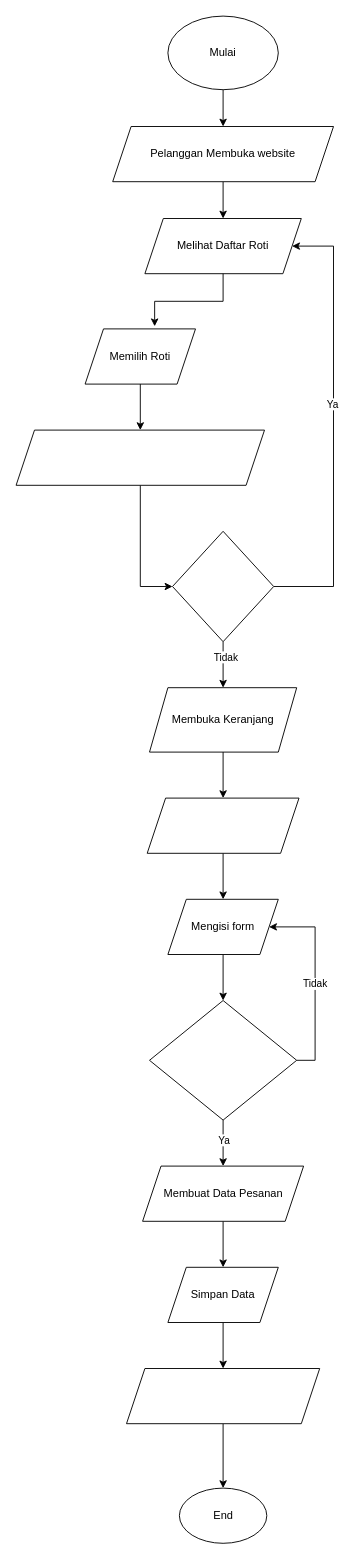
Some shapes in this 357 by 1559 pixel diagram are drawn without their labels. The shapes that lost their labels are listed below. From the top down, each one's box as (x1, y1, x2, y2) in pixels, then its label:
(15, 429, 264, 485): Menambahkan Roti ke Keranjang
(172, 530, 274, 642): Tambah Lagi?
(146, 797, 299, 853): Klik Pesan Sekarang
(149, 1000, 297, 1120): Apakah Data lengkap?
(126, 1368, 320, 1424): Tampilkan Notifikasi Di admin
